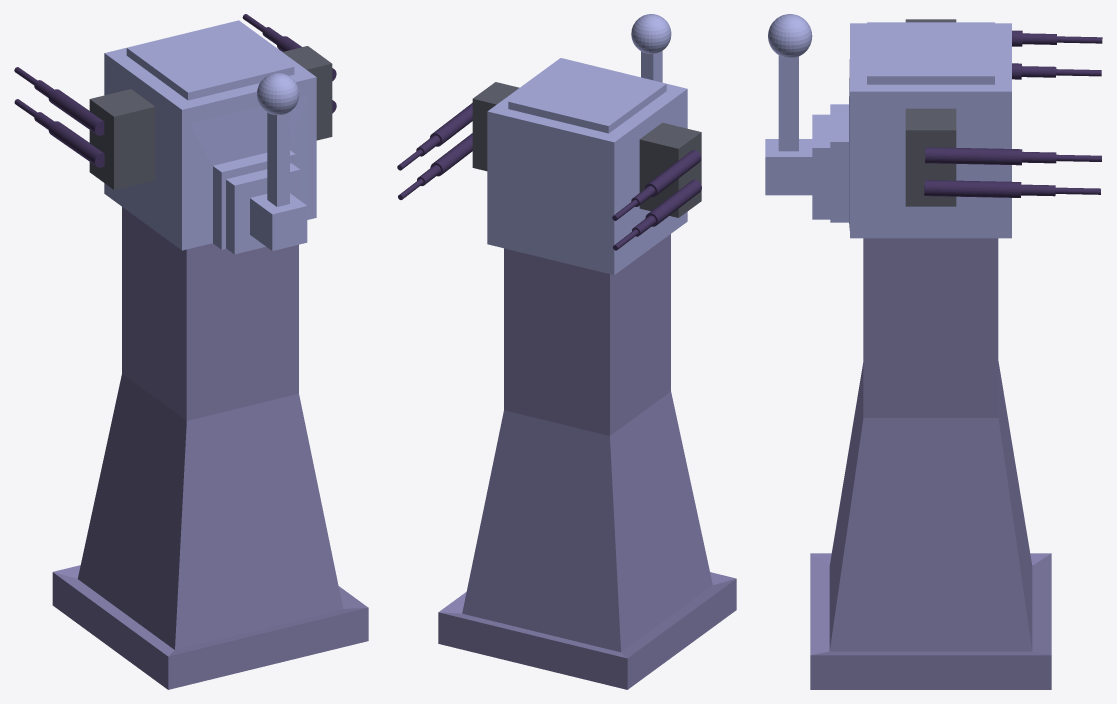
The model's file is machineegun2.fbx.
3 views of the same model, side by side, from view 1: azimuth 30°, elevation 25°; view 2: azimuth 150°, elevation 25°; view 3: azimuth 270°, elevation 25° (orthographic). The views are drawn at different scales.
Parts seen in each view (by area): view 1: Stub, Kupola, topni_drzac, topovi; view 2: Stub, Kupola, topni_drzac, topovi; view 3: Stub, Kupola, topovi, topni_drzac.
Part boxes in pixels (x1,y1,x2,y2): Stub: (52, 207, 368, 689); Kupola: (104, 20, 316, 254); topni_drzac: (89, 46, 332, 189); topovi: (14, 14, 336, 167); Stub: (438, 234, 736, 689); Kupola: (487, 14, 687, 274); topni_drzac: (472, 82, 701, 217); topovi: (397, 103, 701, 250); Stub: (810, 238, 1051, 689); Kupola: (765, 14, 1011, 238); topovi: (924, 30, 1102, 197); topni_drzac: (905, 19, 956, 206).
Bounding box in the file's own units: 241 × 570 × 280.
